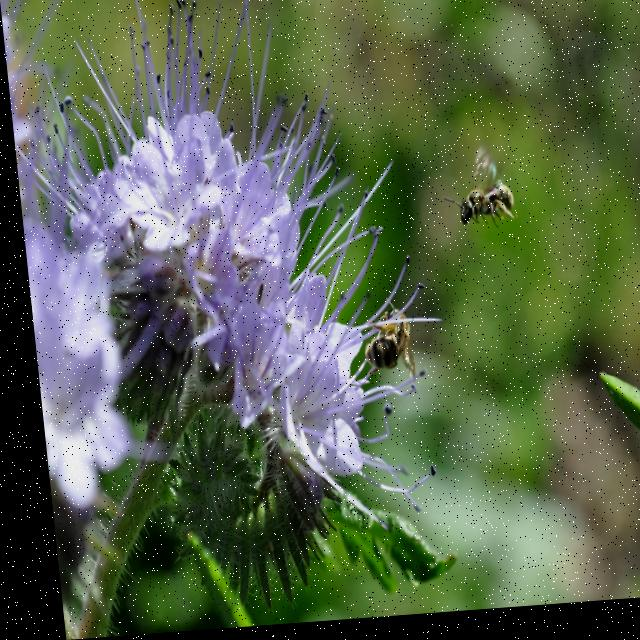Seladonia: (346, 290, 421, 411), (440, 147, 525, 235)
